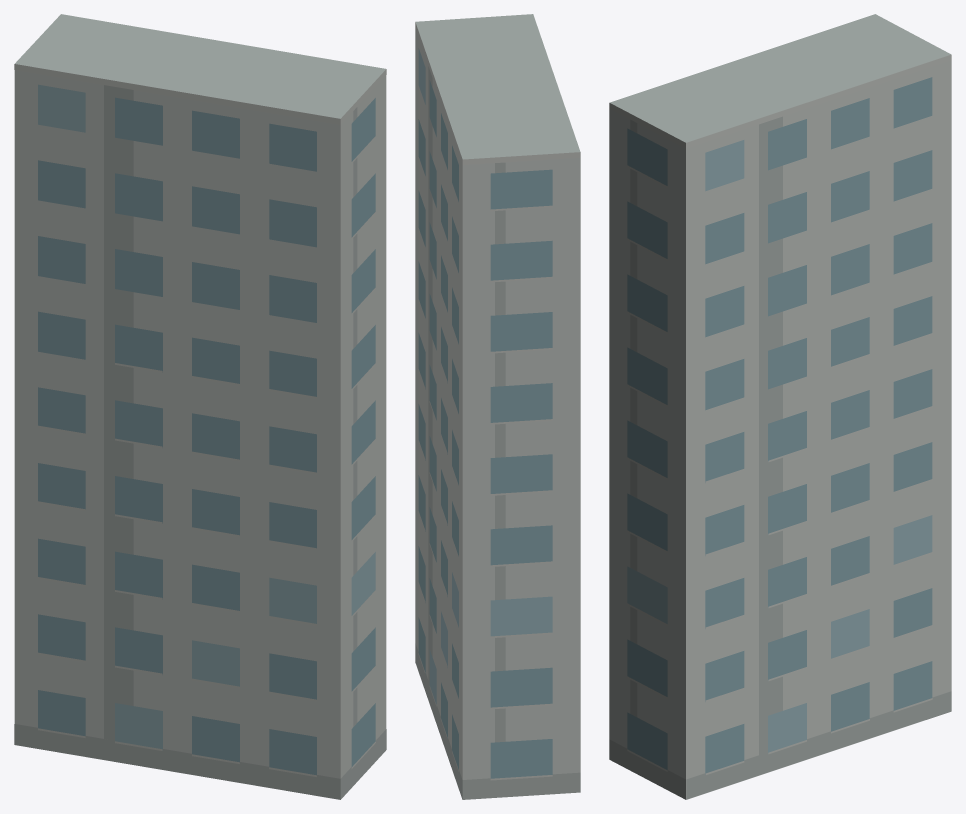
The model's file is survey-upis-32696940.glb.
3 renders of one model, left to right at view 1: azimuth 30°, elevation 25°; view 2: azimuth 150°, elevation 25°; view 3: azimuth 270°, elevation 25°, orthographic. The views are drawn at different scales.
Visible parts, largest first — view 1: survey-upis-32696940.tmp; view 2: survey-upis-32696940.tmp; view 3: survey-upis-32696940.tmp.
Boxes of the visible parts, left/top/right/bottom form: survey-upis-32696940.tmp: left=14, top=14, right=386, bottom=799; survey-upis-32696940.tmp: left=415, top=14, right=580, bottom=799; survey-upis-32696940.tmp: left=609, top=14, right=951, bottom=799.
Bounding box in the file's own units: 11.56 × 27.45 × 12.96.
